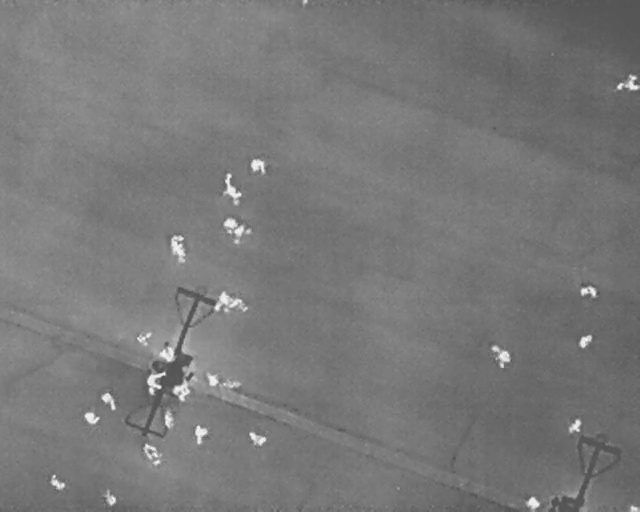Person: (223, 172, 242, 206), (230, 220, 252, 248), (564, 413, 586, 439), (98, 388, 120, 414), (142, 441, 163, 468), (491, 344, 511, 369), (213, 288, 230, 316), (145, 372, 166, 394), (616, 73, 640, 91), (171, 383, 190, 403), (229, 296, 250, 314), (579, 284, 601, 301), (192, 423, 208, 446), (247, 429, 267, 447), (49, 472, 67, 491), (160, 342, 177, 362), (221, 216, 237, 235), (81, 411, 101, 426), (170, 233, 182, 257), (251, 157, 266, 176), (162, 409, 174, 431), (103, 489, 117, 506), (205, 371, 219, 387), (176, 245, 187, 265), (525, 497, 540, 511), (579, 333, 592, 349), (136, 333, 153, 345), (629, 502, 639, 511)
